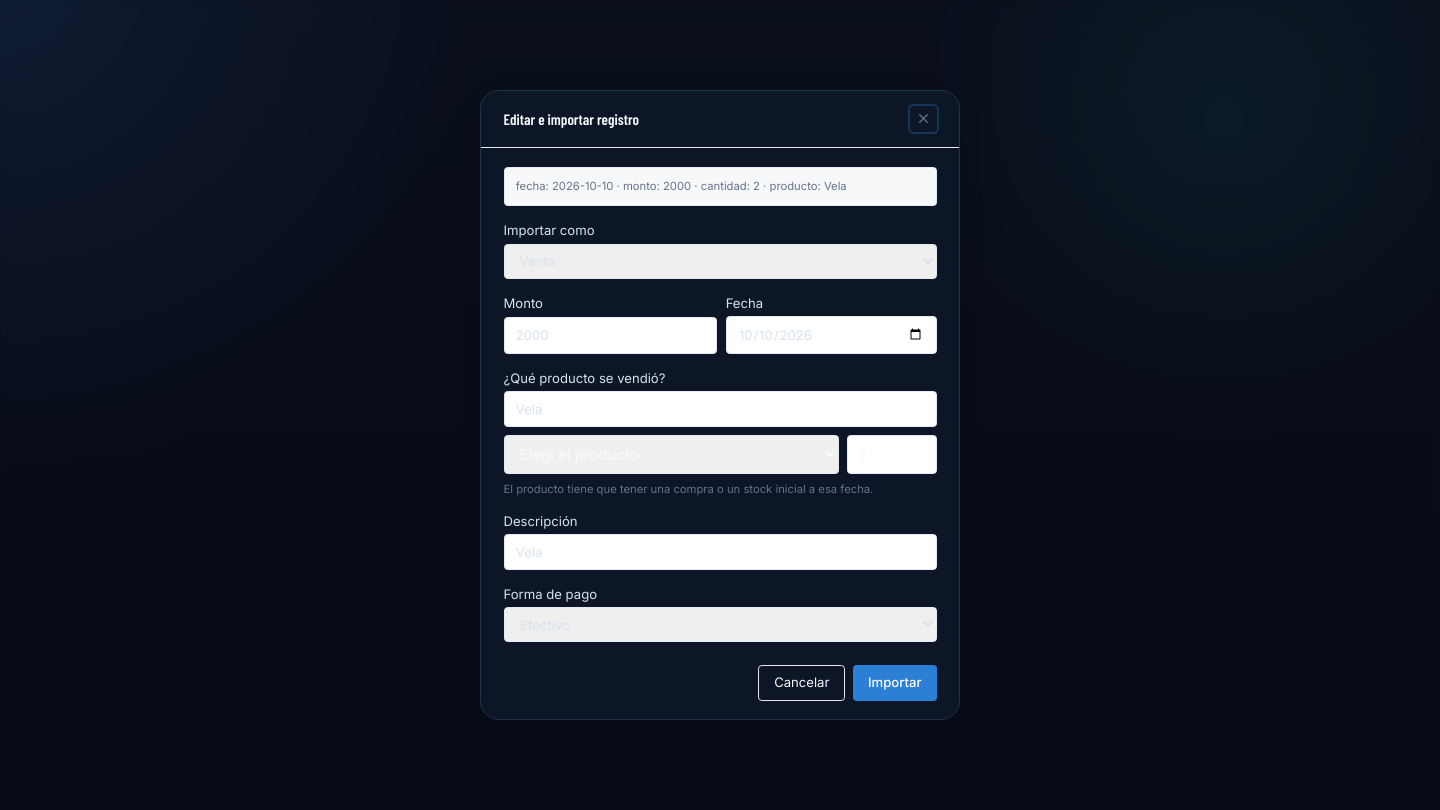
Test: sin producto no se manda y dice por qué
The image size is (1440, 810).
Expected: the dropdown named "Producto vendido" is shown, x1=504 y1=435 x2=839 y2=474
Click the button "Importar" at (895, 683), box x1=853 y1=665 x2=936 y2=701
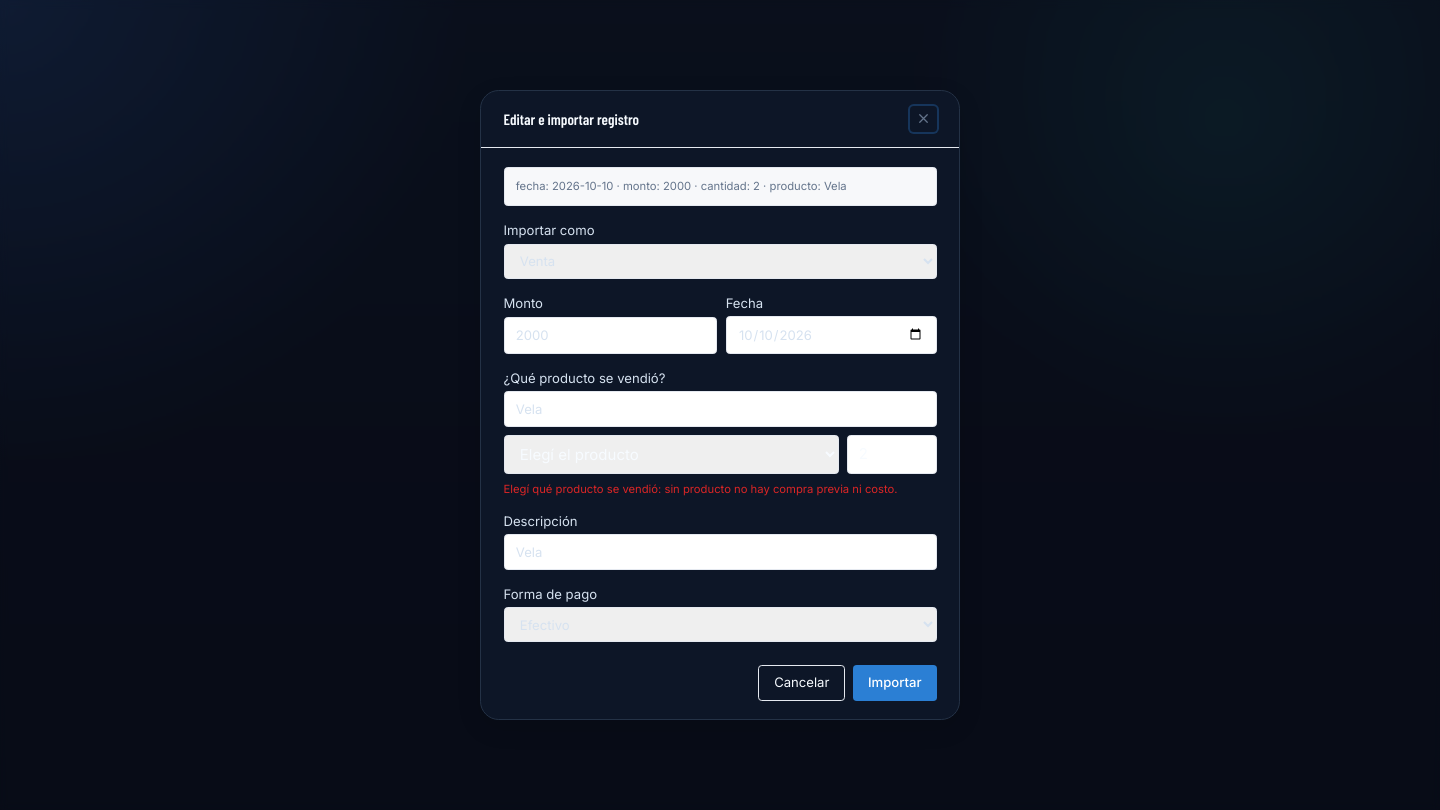
Result: the text "Elegí qué producto se vendió: sin producto no hay compra previa ni costo." is shown at x1=504 y1=482 x2=936 y2=497
